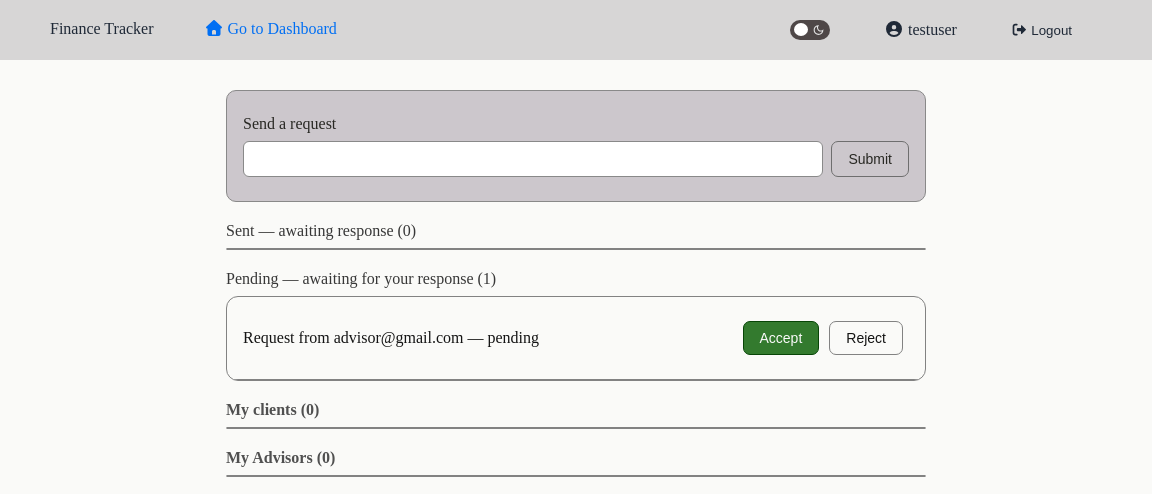
Test: Links Page › removes the request from incoming and outgoing when rejected
Expected: the text "Request from advisor@gmail.com — pending" is shown, x1=243 y1=329 x2=539 y2=347
Click the button "Reject": (866, 338) x1=829 y1=321 x2=903 y2=355
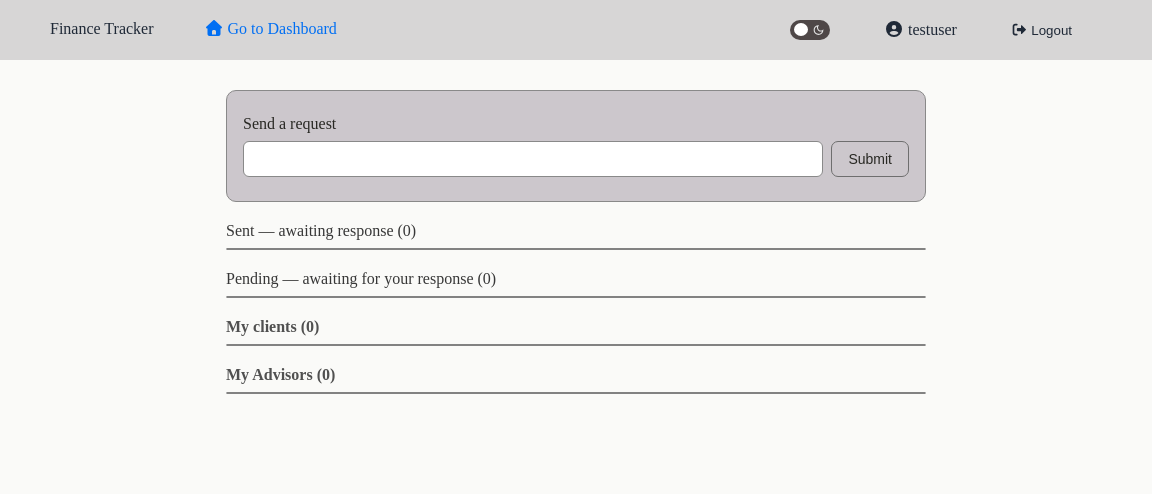
Result: the text "Request from advisor@gmail.com" is gone
